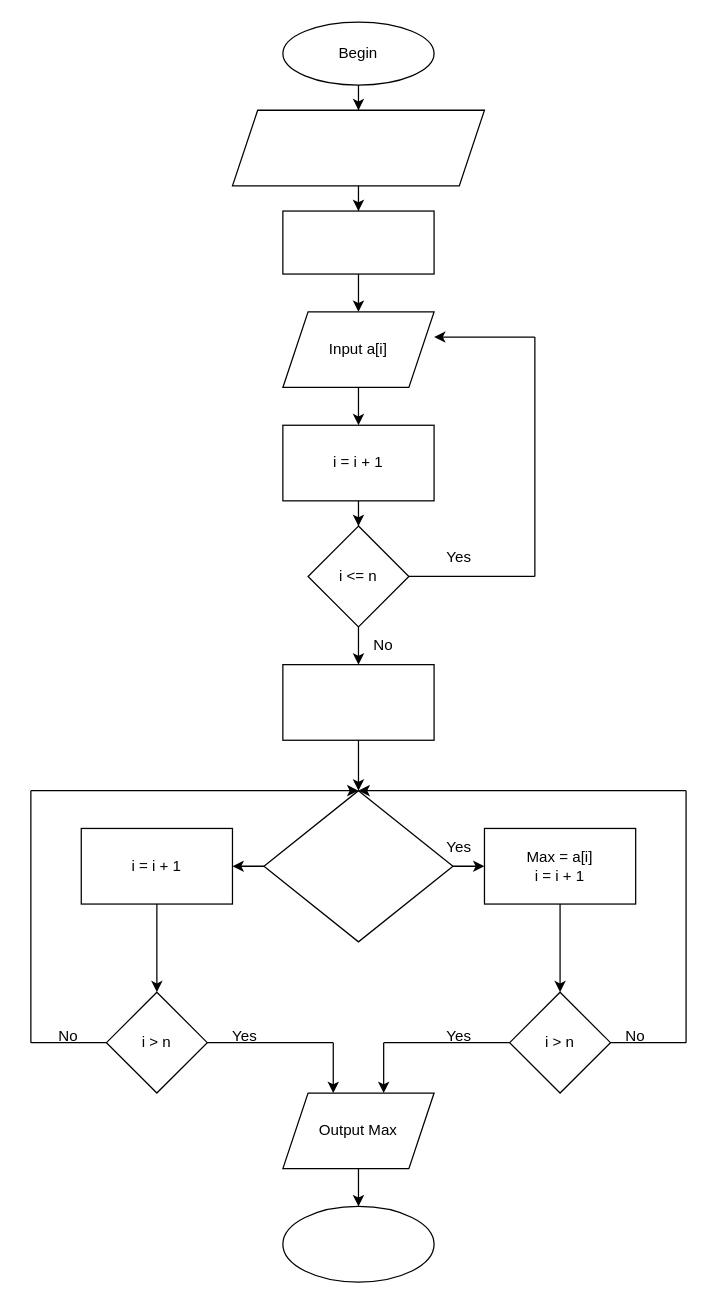
The diagram is 718 pixels wide and 1304 high, and some of its shapes have lost their labels. The centre of each missing label's shape, as x and y in pixels:
"a[i] > Max ?" goes at [358,865].
"End." goes at [358,1243].
"i = 1" goes at [358,242].
"Input n số phần tử của dãy" goes at [357,147].
"Max = a[1] i = 2" goes at [358,701].
